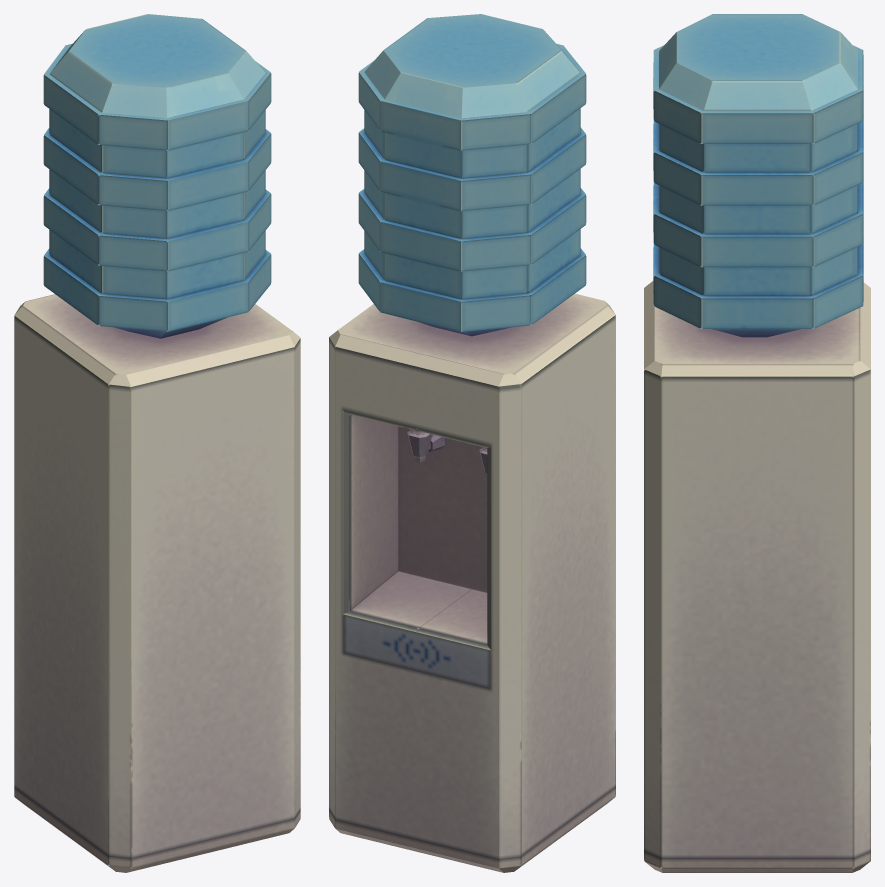
Rendered from waterdispenser.obj.
3 renders of one model, left to right at view 1: azimuth 30°, elevation 25°; view 2: azimuth 150°, elevation 25°; view 3: azimuth 270°, elevation 25°, orthographic. The views are drawn at different scales.
Visible parts, largest first — view 1: WaterDispenser; view 2: WaterDispenser; view 3: WaterDispenser.
Part boxes in pixels (bbox=[...]): WaterDispenser: bbox=[14, 14, 300, 872]; WaterDispenser: bbox=[329, 14, 615, 872]; WaterDispenser: bbox=[644, 14, 870, 872].
Bounding box in the file's own units: 0.8014 × 3.05 × 0.8014.
3 materials, 3 textured.
